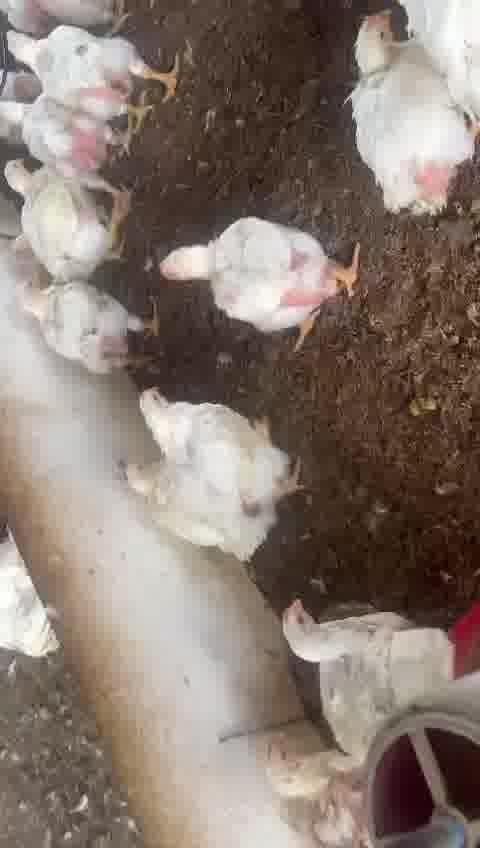AbNormal: (350, 12, 471, 218)
Normal: (159, 213, 357, 336), (284, 597, 457, 716), (137, 384, 303, 504), (124, 447, 273, 560), (9, 24, 180, 113), (9, 157, 126, 280), (22, 290, 154, 385)
